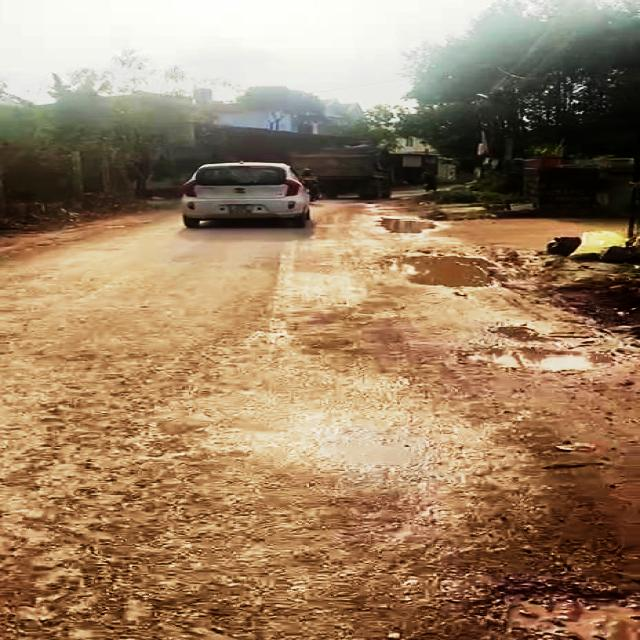pothole: (459, 567, 639, 640), (455, 324, 606, 376), (376, 249, 499, 291), (375, 212, 447, 239)
